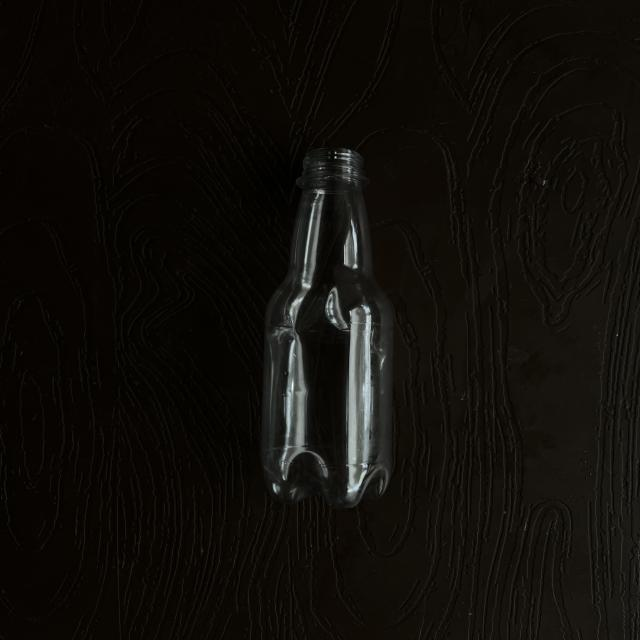PET_ClearBottle: (251, 138, 415, 628)
